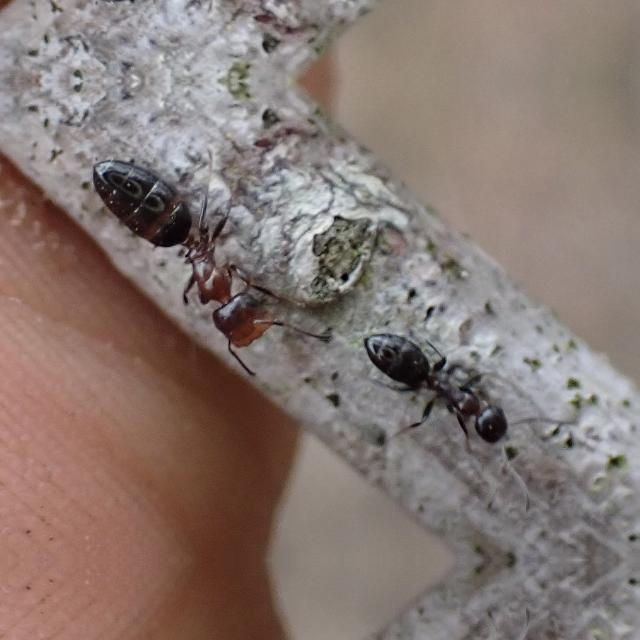Colobopsis: (76, 144, 314, 370), (350, 320, 532, 456)
